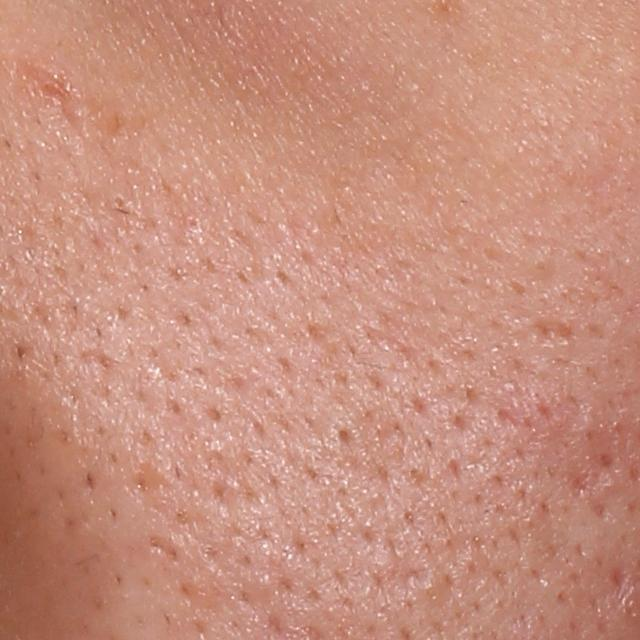atrophic_scar: (123, 457, 174, 503), (142, 532, 187, 566), (527, 311, 578, 340)
comedo: (328, 424, 357, 455), (110, 191, 129, 210)
